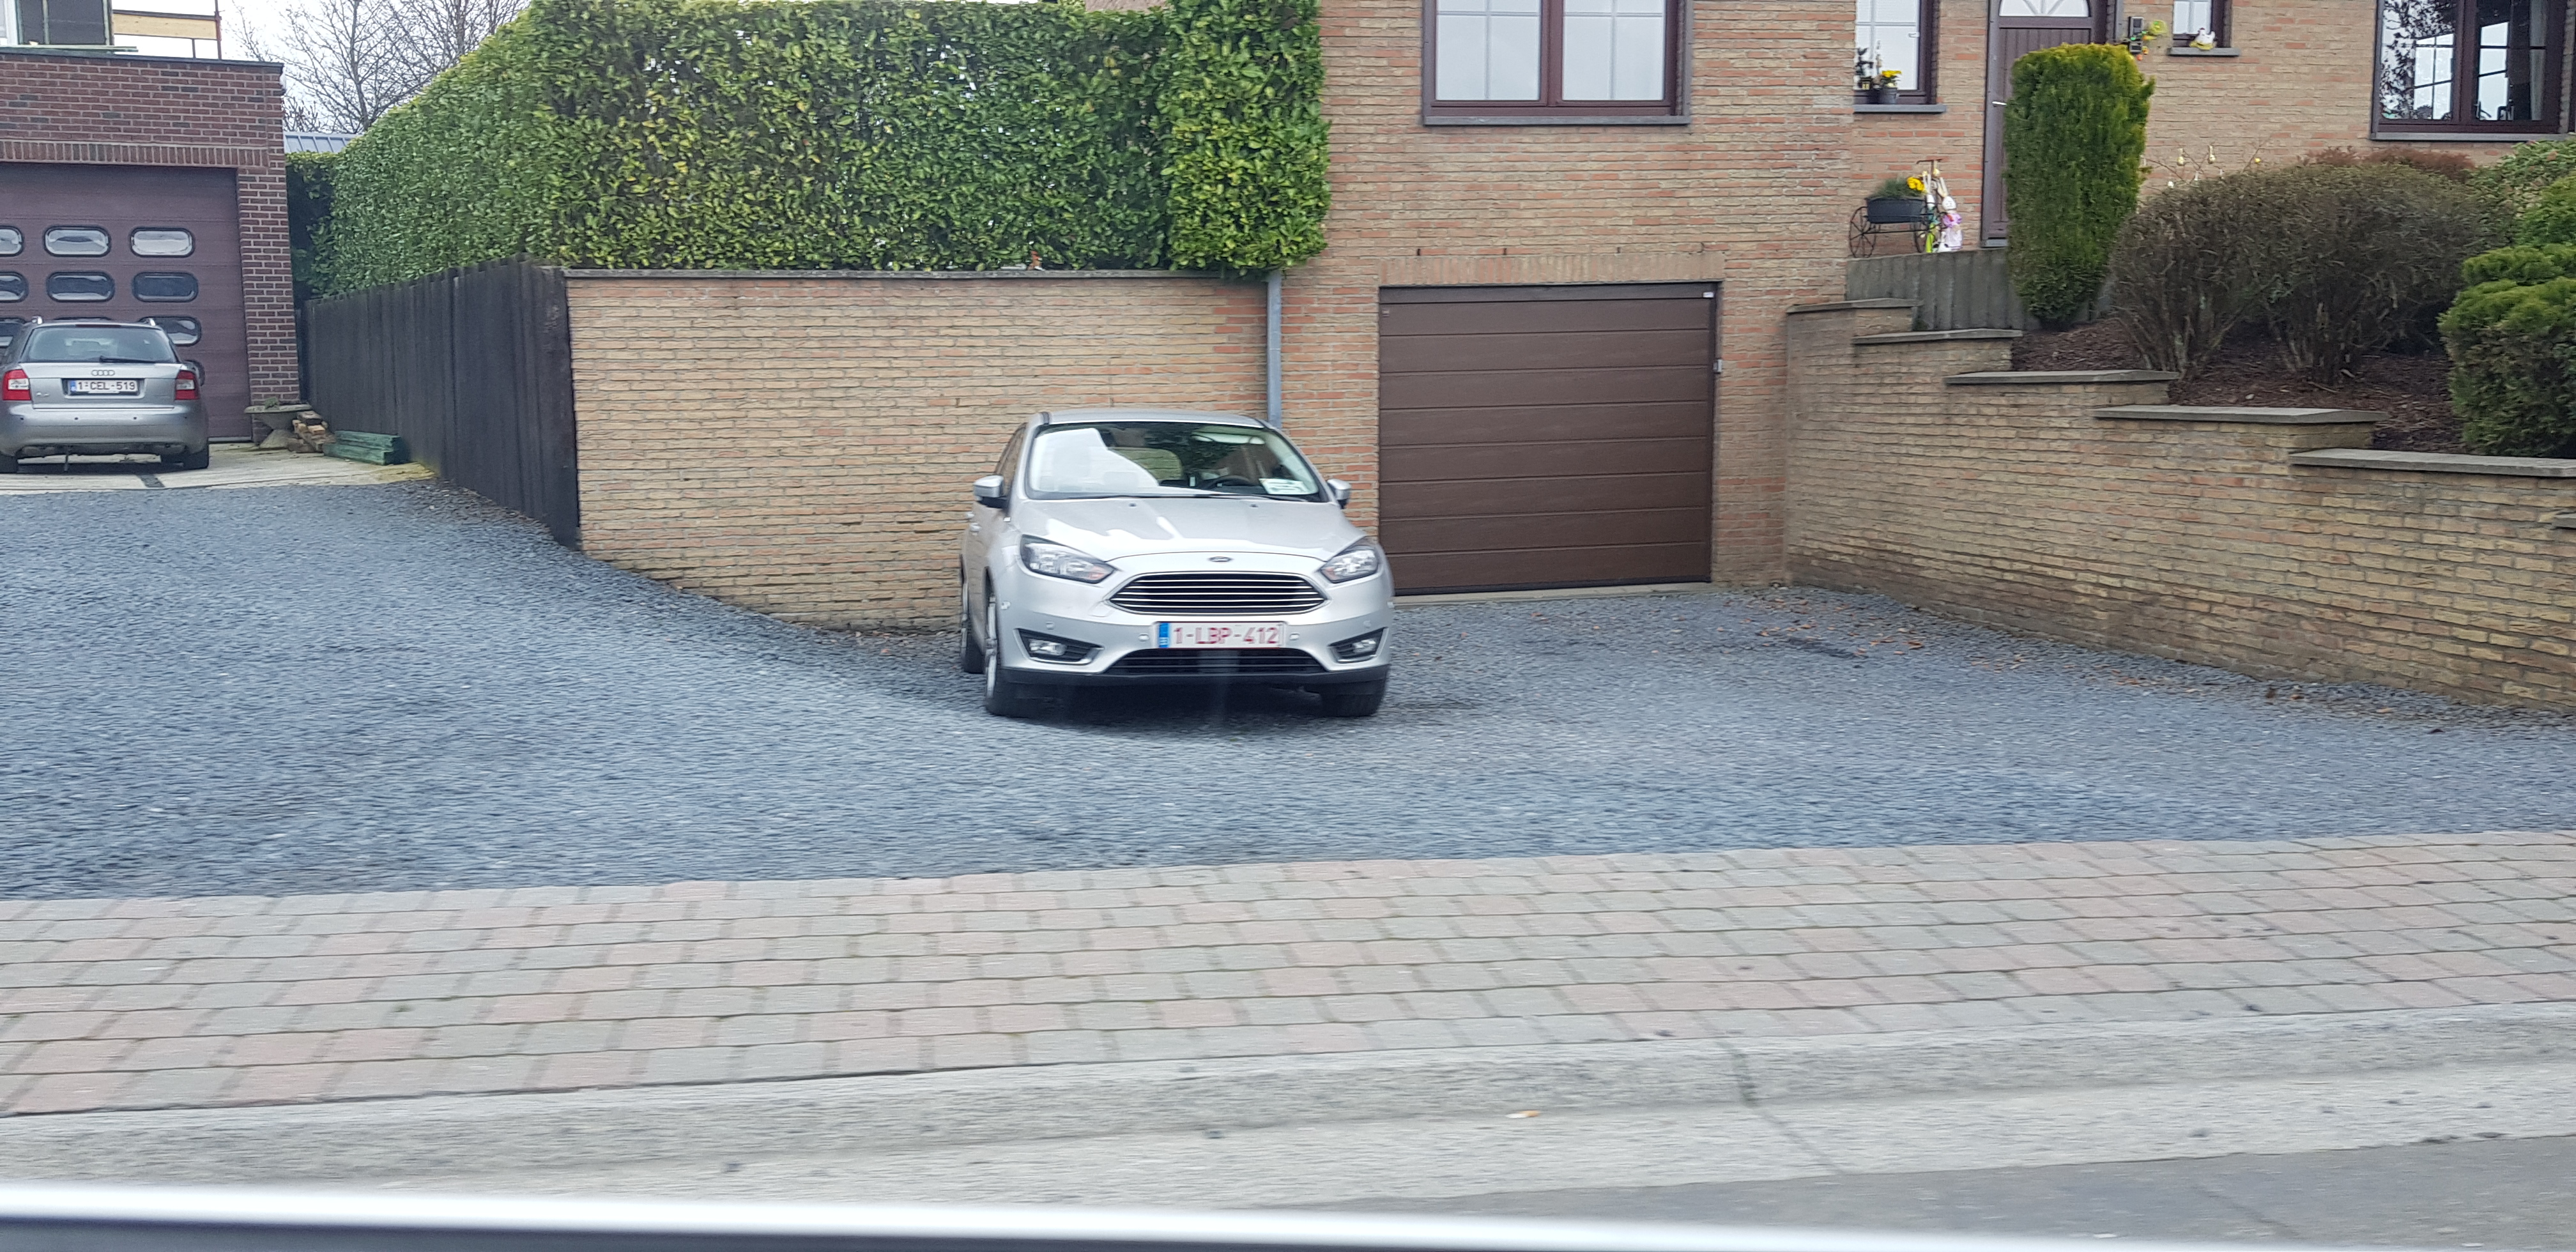licenceplate: (1156, 620, 1284, 646)
